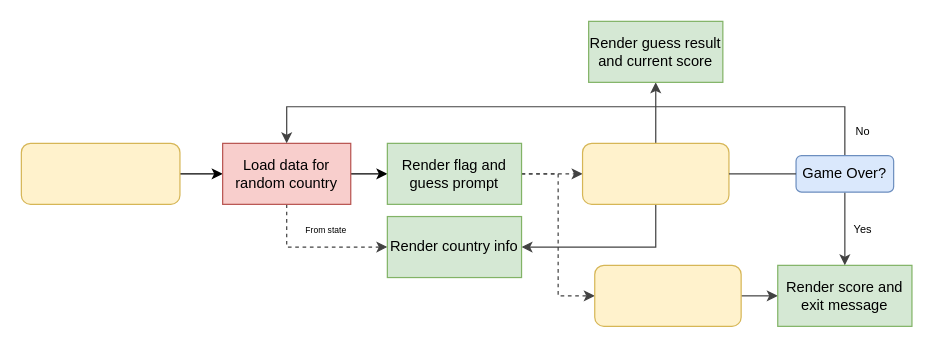
Some shapes in this 933 by 348 pixel diagram are drawn without their labels. Each missing label, with the centre of its shape:
"User enters flag game command" belongs at pixel 100 173.
"User enters guess" belongs at pixel 655 173.
"User exits game" belongs at pixel 667 295.
